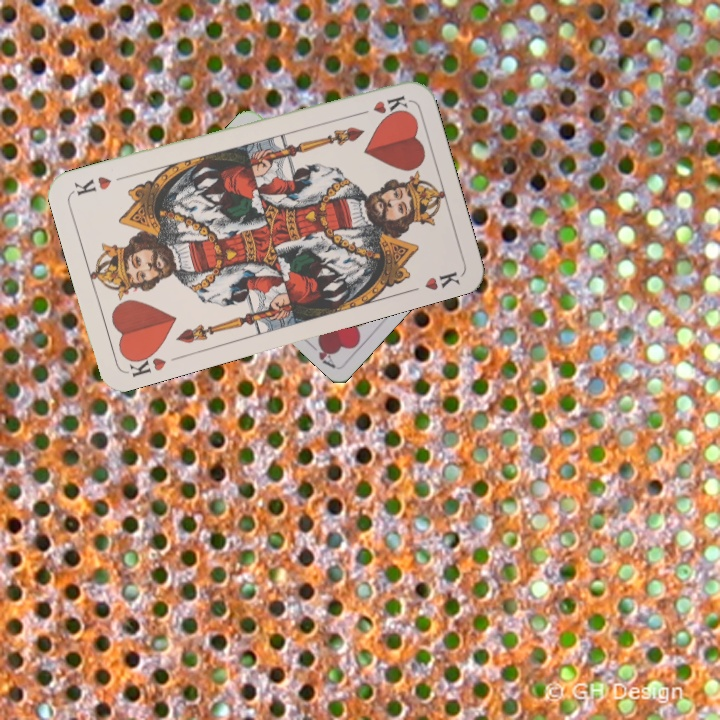HK: (351, 91, 410, 119), (122, 345, 169, 380)
